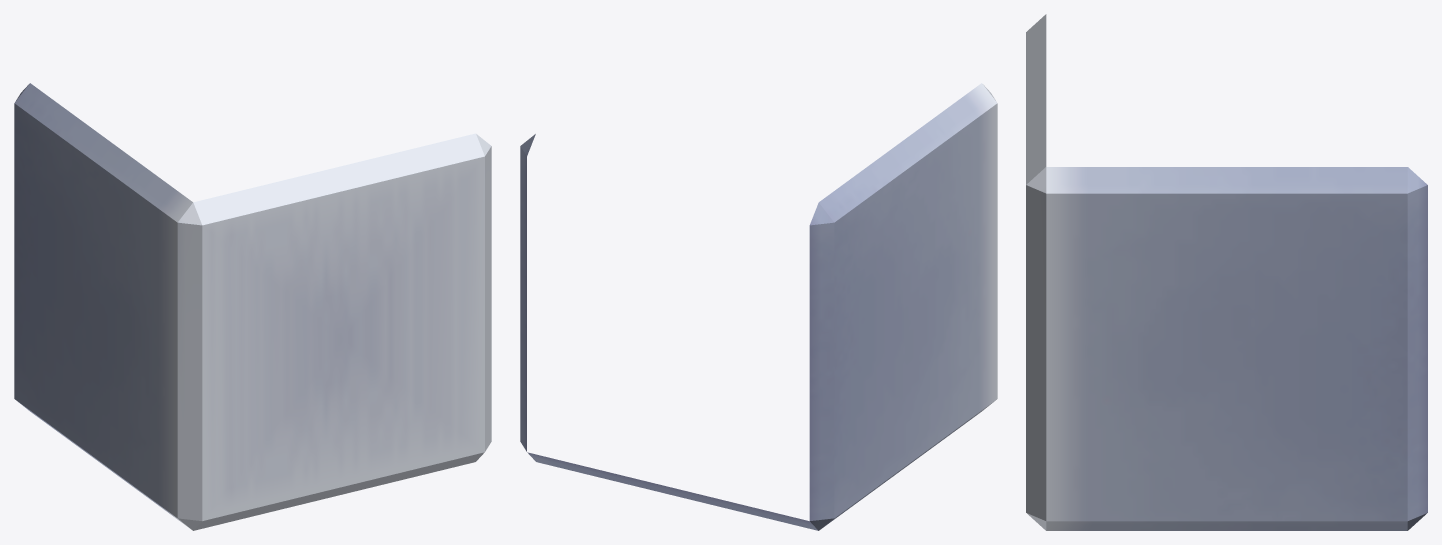
File: model_unbreakable.glb
The picture shows the model from 3 angles, left to right: view 1: azimuth 30°, elevation 25°; view 2: azimuth 150°, elevation 25°; view 3: azimuth 270°, elevation 25°; orthographic projection. The views are drawn at different scales.
Visible parts, largest first — view 1: whitespace.model_unbreakable-Mesh[0]; view 2: whitespace.model_unbreakable-Mesh[0]; view 3: whitespace.model_unbreakable-Mesh[0].
Part boxes in pixels (x1,y1,x2,y2): whitespace.model_unbreakable-Mesh[0]: (14,83,491,530); whitespace.model_unbreakable-Mesh[0]: (520,83,997,530); whitespace.model_unbreakable-Mesh[0]: (1026,14,1427,530).
Bounding box in the file's own units: 1 × 1 × 1.
Materials: 1 (1 with a texture image).
